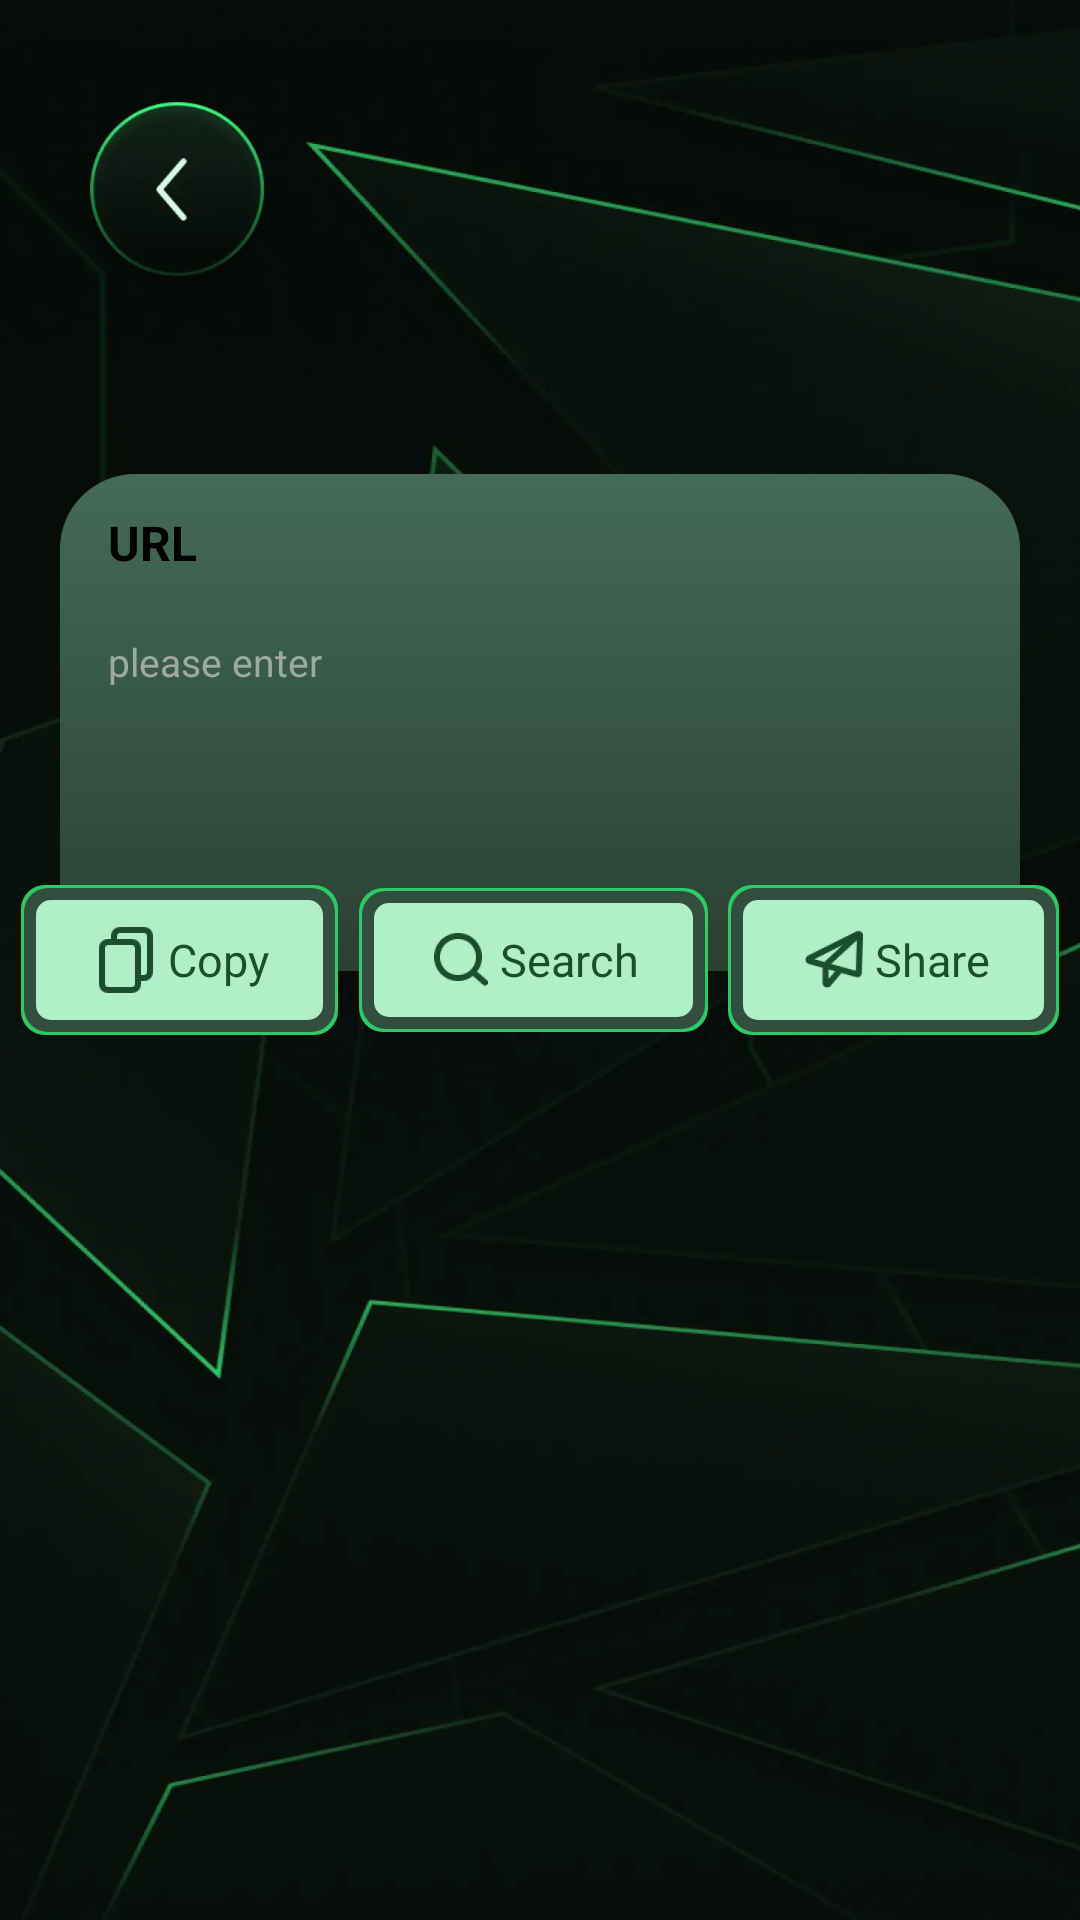

Where icons sit on this 1080w x 1920h app screen, as bbox(x1, y1, x2, y2):
back: bbox(90, 102, 265, 276)
